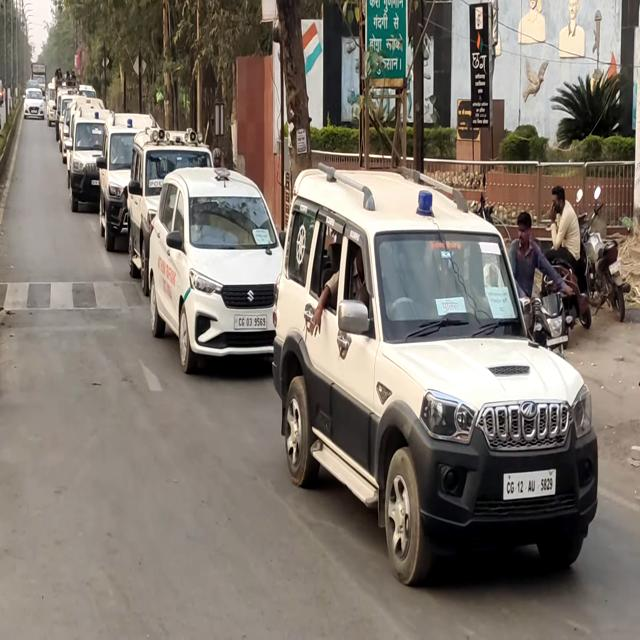emergency-vehicles: (266, 150, 612, 606), (138, 154, 308, 393), (67, 88, 172, 280)
